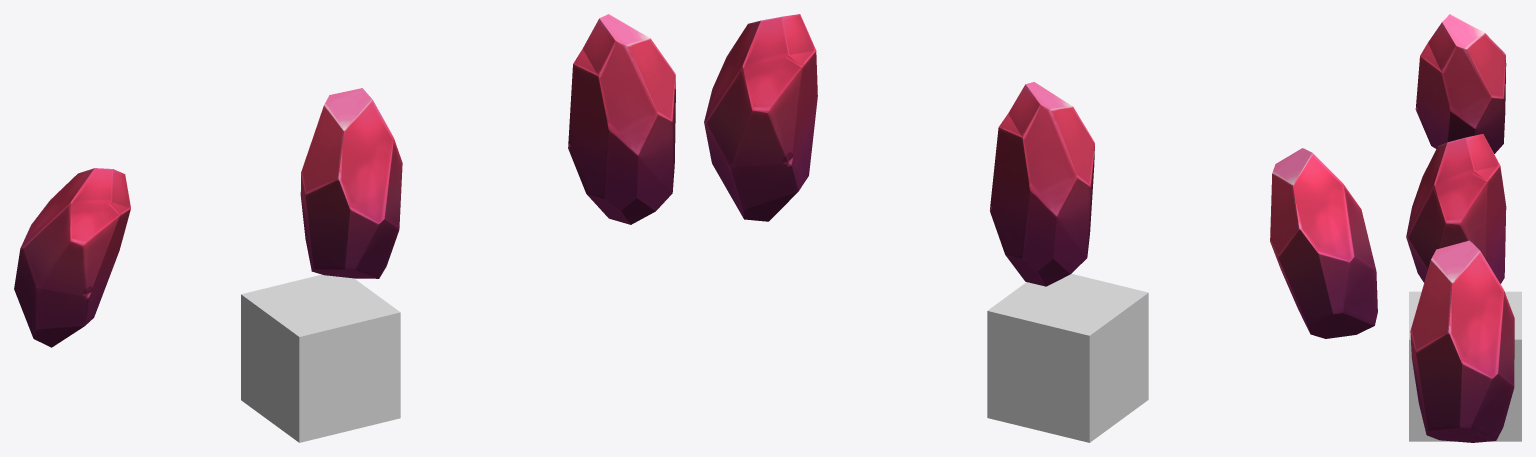
File: resources.glb
3 renders of one model, left to right at view 1: azimuth 30°, elevation 25°; view 2: azimuth 150°, elevation 25°; view 3: azimuth 270°, elevation 25°, orthographic. The views are drawn at different scales.
Visible parts, largest first — view 1: Cube, Crystal002, Crystal000, Crystal001; view 2: Cube, Crystal002, Crystal000, Crystal001; view 3: Crystal002, Crystal000, Crystal001, Cube.
Boxes of the visible parts, box(x1,y1,x2,y2) form: Cube: box(241, 274, 400, 442); Crystal002: box(568, 14, 675, 224); Crystal000: box(300, 88, 402, 278); Crystal001: box(14, 168, 130, 347); Cube: box(987, 273, 1148, 442); Crystal002: box(704, 14, 817, 221); Crystal000: box(990, 82, 1094, 286); Crystal001: box(1270, 148, 1377, 338); Crystal002: box(1410, 240, 1514, 442); Crystal000: box(1406, 134, 1506, 283); Crystal001: box(1415, 14, 1506, 153); Cube: box(1409, 291, 1521, 441).
Bounding box in the file's own units: 6.41 × 3.03 × 1.03.
Materials: 1 (1 with a texture image).
